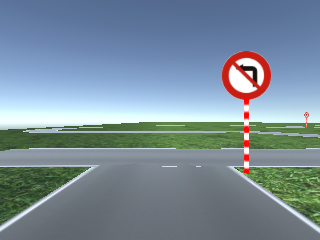0: (1, 194, 320, 239)
NoLeft: (222, 49, 271, 99)
